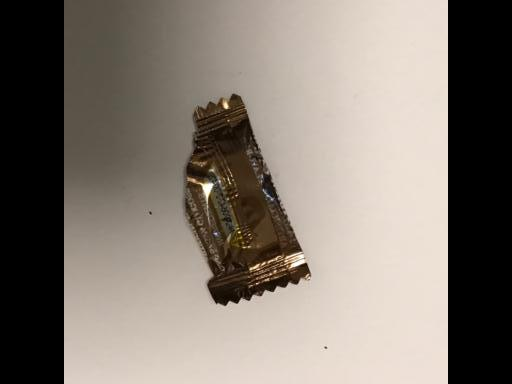trash: (182, 92, 314, 307)
